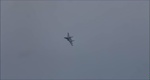maybay_muctieu: (64, 32, 74, 47)
